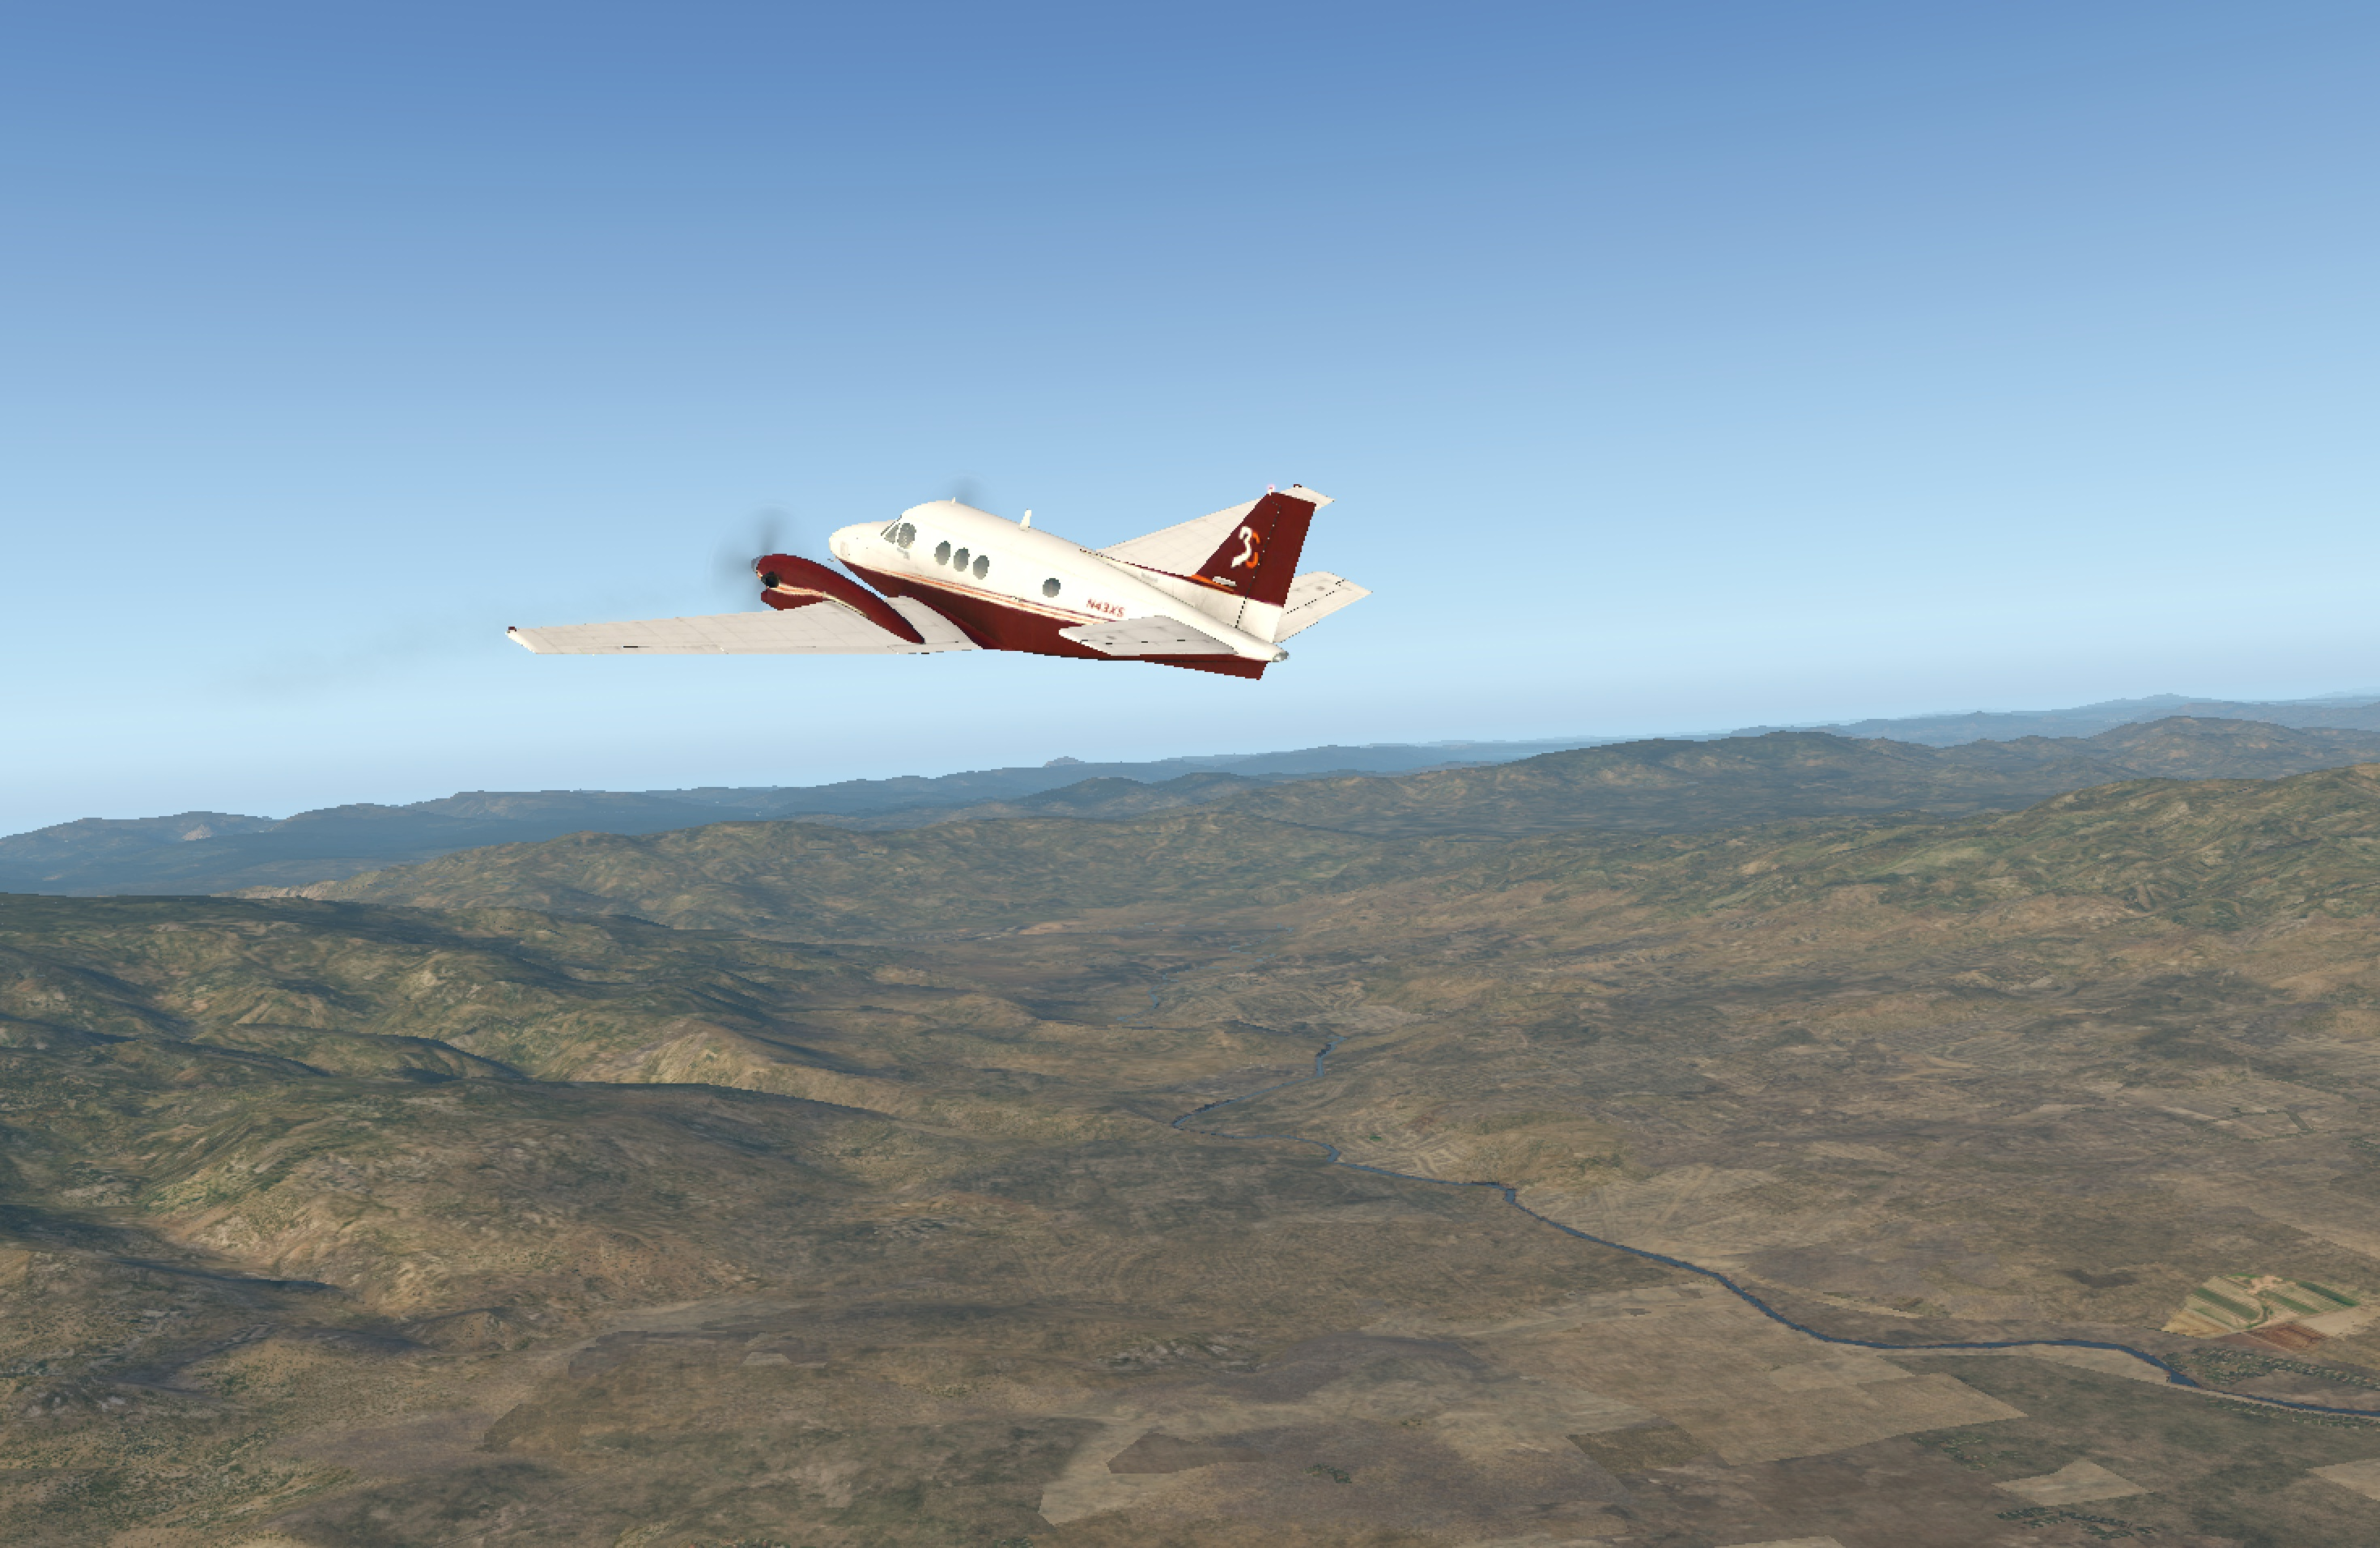aircraft: (477, 427, 1448, 791)
